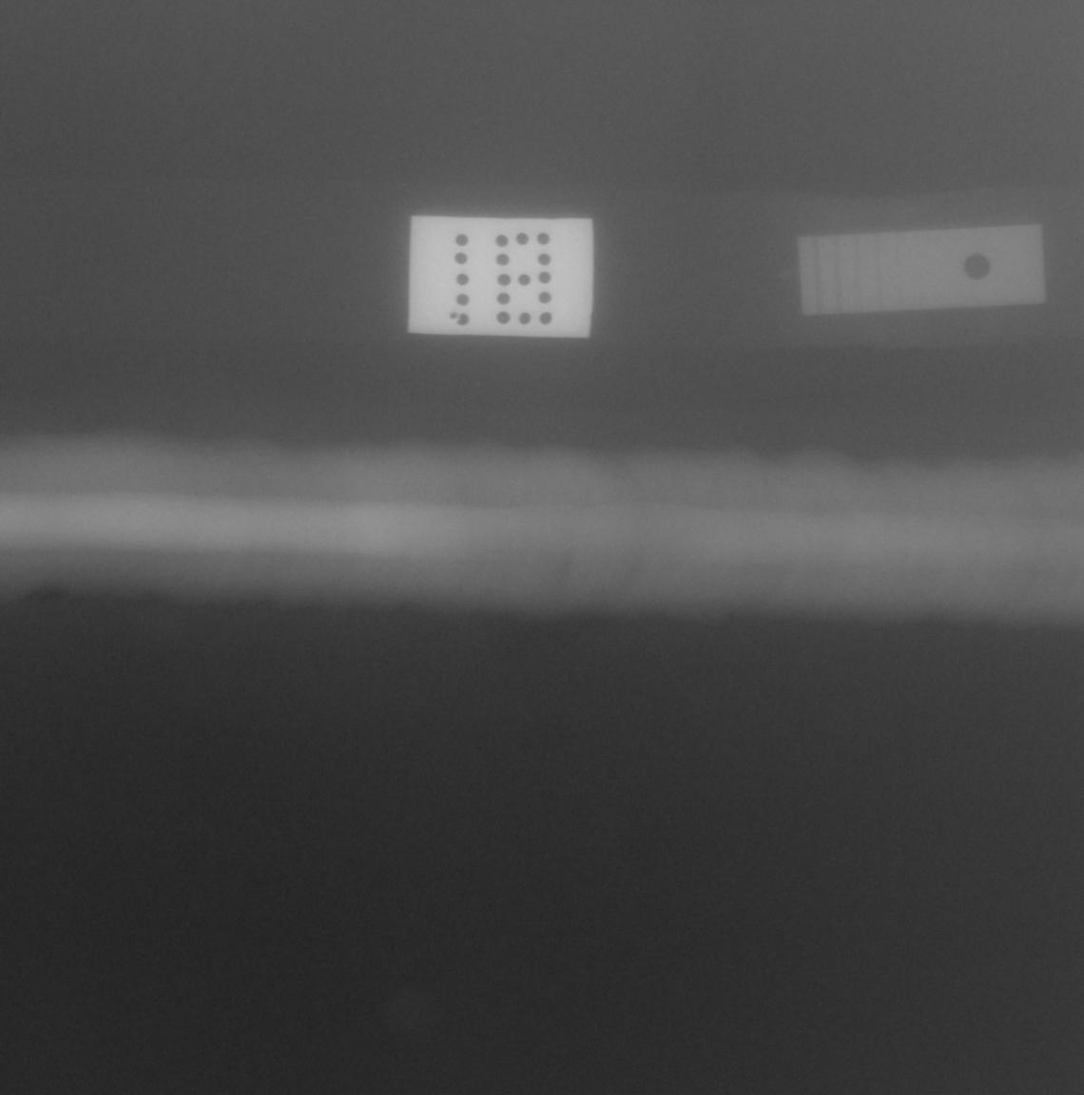Reference Standard 1: (797, 224, 1045, 316)
